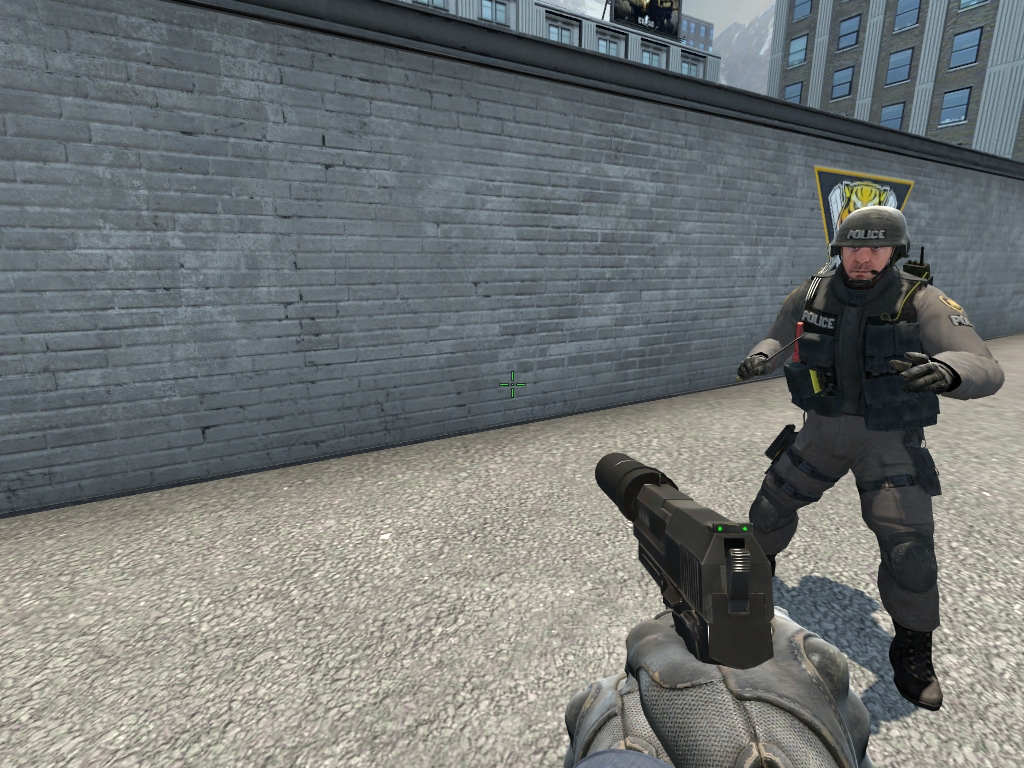ct head: (841, 215, 892, 278)
